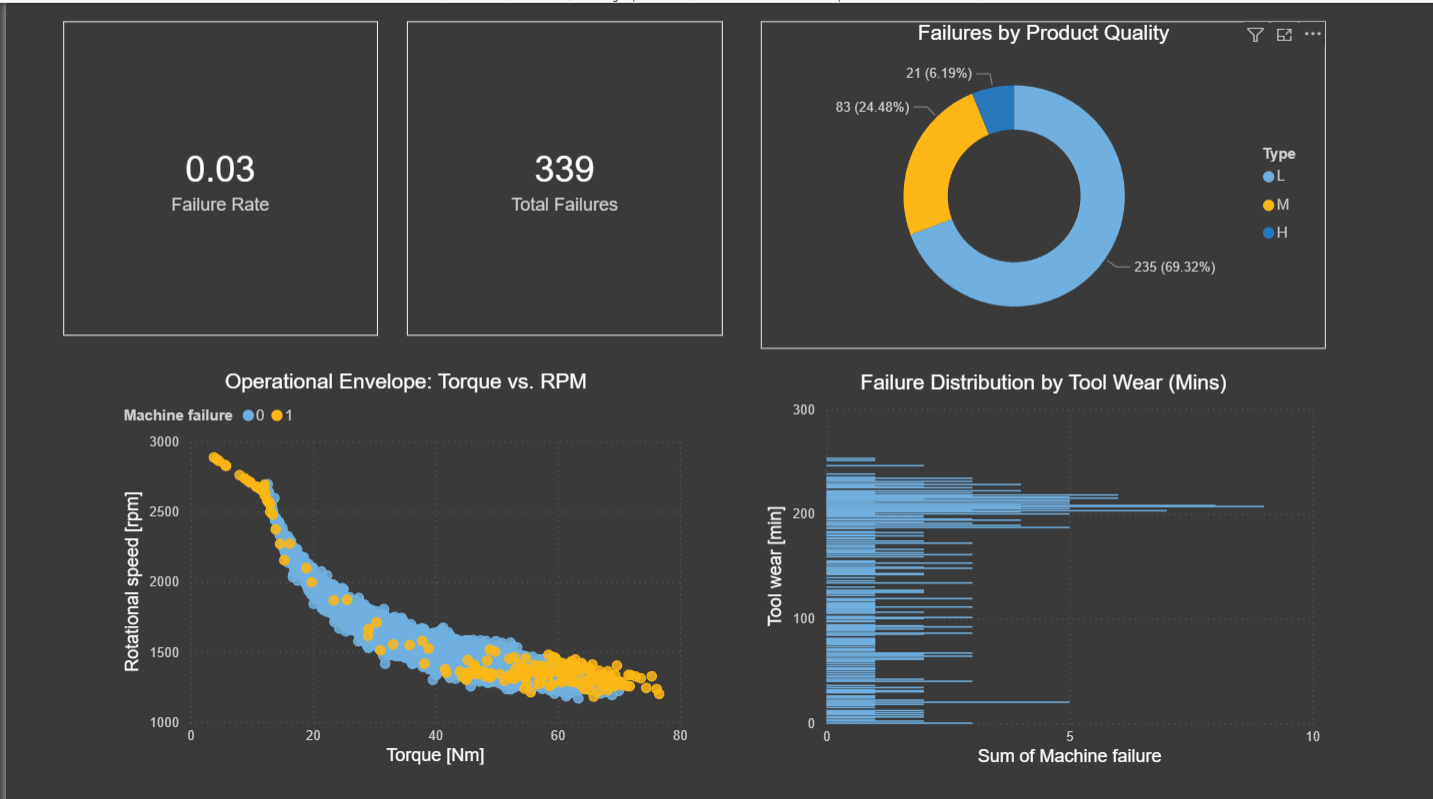

This screenshot's page, from the dashboard's own definition file:
{"tool":"powerbi","page":{"name":"Page 1","canvas":[1280,720],"ordinal":0},"visuals":[{"type":"card","fields":{"Values":["Machine_Data.Failure Rate"]},"box":[51.1,16.7,280,280],"z":0},{"type":"card","fields":{"Values":["Machine_Data.Total Failures"]},"box":[356.7,16.7,281.1,280],"z":1000},{"type":"donutChart","title":"Failures by Product Quality","fields":{"Category":["Product_Dimension.Type"],"Y":["Machine_Data.Total Failures"]},"box":[672.2,16.7,503.3,291.1],"z":2000},{"type":"scatterChart","title":"Operational Envelope: Torque vs. RPM","fields":{"X":["Machine_Data.Torque [Nm]"],"Y":["Machine_Data.Rotational speed [rpm]"],"Series":["Machine_Data.Machine failure"]},"box":[100,326.7,512.2,356.7],"z":3000},{"type":"clusteredBarChart","title":"Failure Distribution by Tool Wear (Mins)","fields":{"Category":["Machine_Data.Tool wear [min]"],"Y":["Sum(Machine_Data.Machine failure)"]},"box":[672.2,327.8,503.3,356.7],"z":4000}]}

Visuals, with their boxes in screenshot pixels (x1, y1, x2, y2), scaled from the page's 1280x720 canvas onto the 1433x799 screenshot:
card - Machine_Data.Failure Rate: [x1=57, y1=19, x2=371, y2=329]
card - Machine_Data.Total Failures: [x1=399, y1=19, x2=714, y2=329]
"Failures by Product Quality" donutChart: [x1=753, y1=19, x2=1316, y2=342]
"Operational Envelope: Torque vs. RPM" scatterChart: [x1=112, y1=363, x2=685, y2=758]
"Failure Distribution by Tool Wear (Mins)" clusteredBarChart: [x1=753, y1=364, x2=1316, y2=760]
